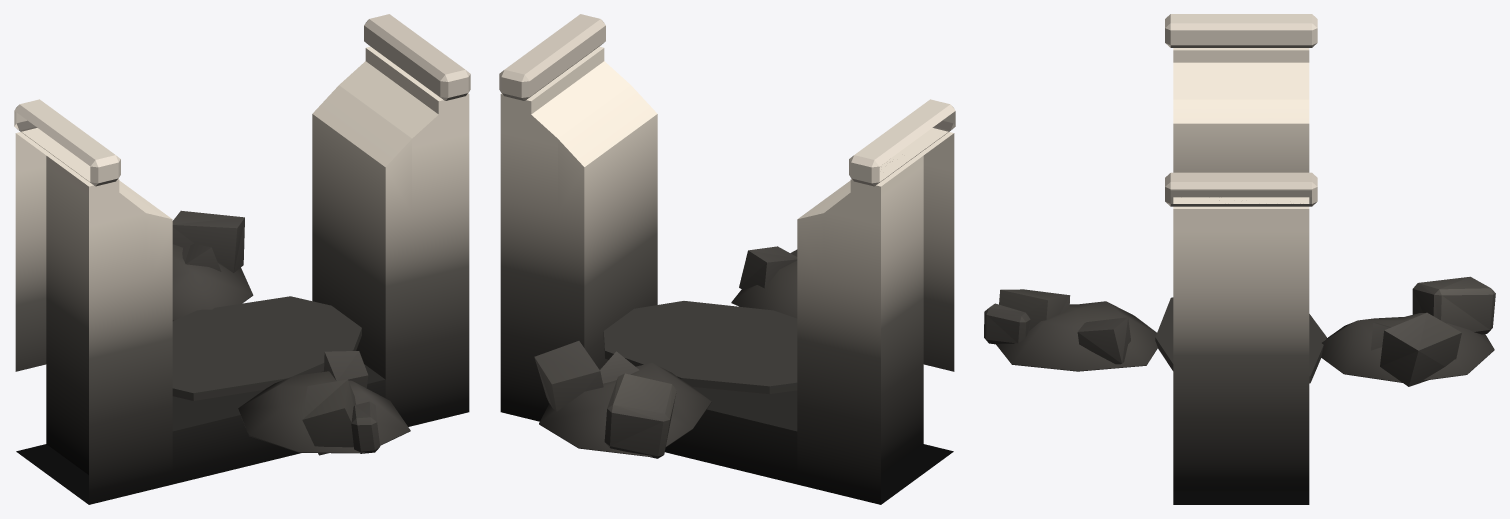
The model's file is SM_VKI_Wall_Sewer_Breach_150_Cut.fbx.
3 views of the same model, side by side, from view 1: azimuth 30°, elevation 25°; view 2: azimuth 150°, elevation 25°; view 3: azimuth 270°, elevation 25° (orthographic). The views are drawn at different scales.
Visible parts, largest first — view 1: SM_VKI_Wall_Sewer_Breach_150_Cut.001; view 2: SM_VKI_Wall_Sewer_Breach_150_Cut.001; view 3: SM_VKI_Wall_Sewer_Breach_150_Cut.001.
Part boxes in pixels (<box>): SM_VKI_Wall_Sewer_Breach_150_Cut.001: <box>14,14,470,504</box>; SM_VKI_Wall_Sewer_Breach_150_Cut.001: <box>499,14,955,504</box>; SM_VKI_Wall_Sewer_Breach_150_Cut.001: <box>984,14,1495,504</box>.
Bounding box in the file's own units: 1.5 × 1.3 × 1.88.
